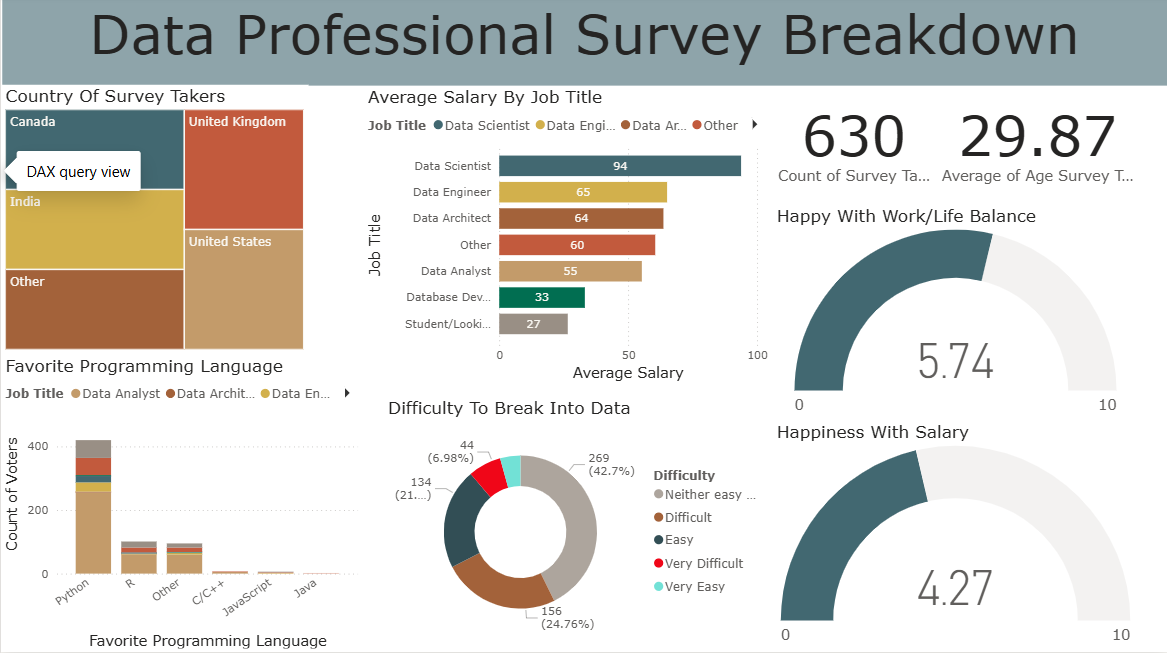

What the dashboard file says about the page in this screenshot:
{"tool":"powerbi","page":{"name":"Page 1","canvas":[1280,720],"ordinal":0},"visuals":[{"type":"textbox","box":[1.5,0,1278.8,98.5],"z":0},{"type":"card","fields":{"Values":["CountNonNull(Data Professional Survey.Unique ID)"]},"box":[846.6,98.6,179.5,121.9],"z":1000},{"type":"card","fields":{"Values":["Avg(Data Professional Survey.Q10 - Current Age)"]},"box":[1026,98.6,223.3,121.9],"z":2000},{"type":"barChart","title":"Average Salary By Job Title","fields":{"Category":["Data Professional Survey.Q1 - Which Title Best Fits your Current Role?.1"],"Y":["Avg(Data Professional Survey.Avg Sal)"],"Series":["Data Professional Survey.Q1 - Which Title Best Fits your Current Role?.1"]},"box":[397.3,98.6,449.3,328.8],"z":3000},{"type":"columnChart","title":"Favorite Programming Language","fields":{"Category":["Data Professional Survey.Q5 - Favorite Programming Language.1"],"Y":["CountNonNull(Data Professional Survey.Unique ID)"],"Series":["Data Professional Survey.Q1 - Which Title Best Fits your Current Role?.1"]},"box":[0,393.2,397.3,327.4],"z":4000},{"type":"treemap","title":"Country Of Survey Takers","fields":{"Group":["Data Professional Survey.Q11 - Which Country do you live in?.1"],"Values":["Count(Data Professional Survey.Q11 - Which Country do you live in?.1)"]},"box":[0,97.2,337.4,295.8],"z":5000},{"type":"gauge","title":" Happy With Work/Life Balance","fields":{"Y":["Avg(Data Professional Survey.Q6 - How Happy are you in your Current Position with the following? (Work/Life Balance))"],"MinValue":["Min(Data Professional Survey.Q6 - How Happy are you in your Current Position with the following? (Work/Life Balance))1"],"MaxValue":["Max(Data Professional Survey.Q6 - How Happy are you in your Current Position with the following? (Work/Life Balance))2"]},"box":[846.6,228.8,402.7,238.4],"z":6000},{"type":"gauge","title":"Happiness With Salary","fields":{"Y":["Avg(Data Professional Survey.Q6 - How Happy are you in your Current Position with the following? (Salary))"],"MinValue":["Min(Data Professional Survey.Q6 - How Happy are you in your Current Position with the following? (Salary))"],"MaxValue":["Max(Data Professional Survey.Q6 - How Happy are you in your Current Position with the following? (Salary))"]},"box":[846.6,467.1,402.7,253.4],"z":7000},{"type":"donutChart","title":"Difficulty To Break Into Data","fields":{"Category":["Data Professional Survey.Q7 - How difficult was it for you to break into Data?"],"Y":["CountNonNull(Data Professional Survey.Q7 - How difficult was it for you to break into Data?)"]},"box":[420.5,441.1,426,274],"z":8000}]}

Visuals, with their boxes in screenshot pixels (x1, y1, x2, y2), scaled from the page's 1280x720 canvas onto the 1167x653 screenshot:
textbox: select_region(1, 0, 1166, 89)
card - CountNonNull(Data Professional Survey.Unique ID): select_region(772, 89, 936, 200)
card - Avg(Data Professional Survey.Q10 - Current Age): select_region(935, 89, 1139, 200)
"Average Salary By Job Title" barChart: select_region(362, 89, 772, 388)
"Favorite Programming Language" columnChart: select_region(0, 357, 362, 652)
"Country Of Survey Takers" treemap: select_region(0, 88, 308, 356)
" Happy With Work/Life Balance" gauge: select_region(772, 208, 1139, 424)
"Happiness With Salary" gauge: select_region(772, 424, 1139, 652)
"Difficulty To Break Into Data" donutChart: select_region(383, 400, 772, 649)
